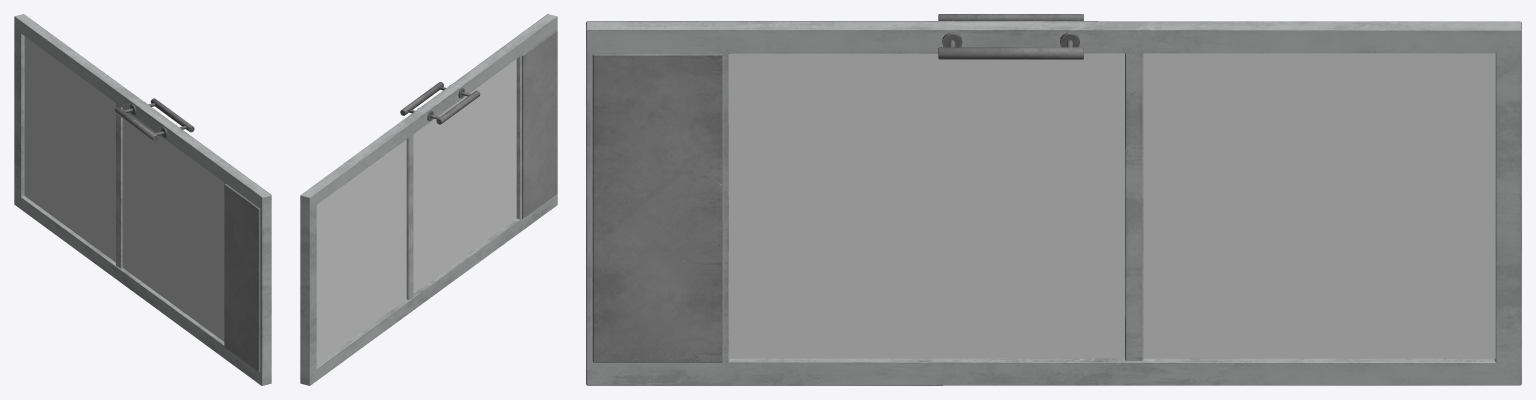
File: Door.fbx
3 views of the same model, side by side, from view 1: azimuth 30°, elevation 25°; view 2: azimuth 150°, elevation 25°; view 3: azimuth 270°, elevation 25° (orthographic). The views are drawn at different scales.
Visible parts, largest first — view 1: SM_Door_School_01_LOD0; view 2: SM_Door_School_01_LOD0; view 3: SM_Door_School_01_LOD0.
Part boxes in pixels (left/top/right/bottom): SM_Door_School_01_LOD0: left=14, top=14, right=271, bottom=385; SM_Door_School_01_LOD0: left=300, top=14, right=557, bottom=385; SM_Door_School_01_LOD0: left=586, top=14, right=1521, bottom=385.
Size of the model in its own units: 0.2088 by 0.8988 by 2.14.
